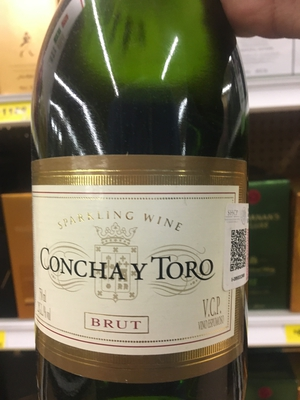brut: (26, 16, 268, 397)
